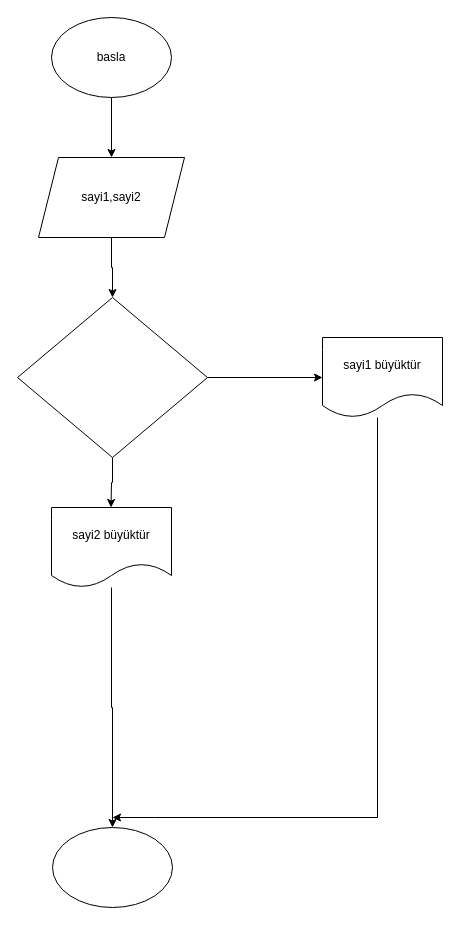
Some shapes in this 460 by 925 pixel diagram are drawn without their labels. The centre of each missing label's shape, as x and y in pixels:
BİTİR: the point at 112,867
sayi1>sayi2: the point at 112,377
